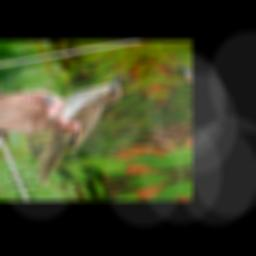Cuckoo: (0, 73, 159, 188)
